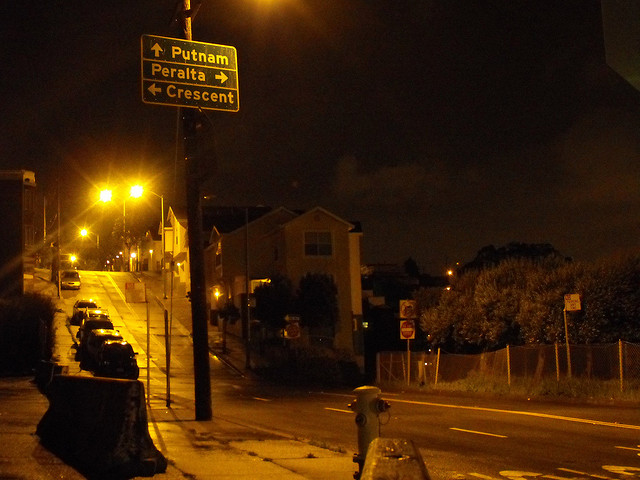car: (56, 263, 86, 291)
